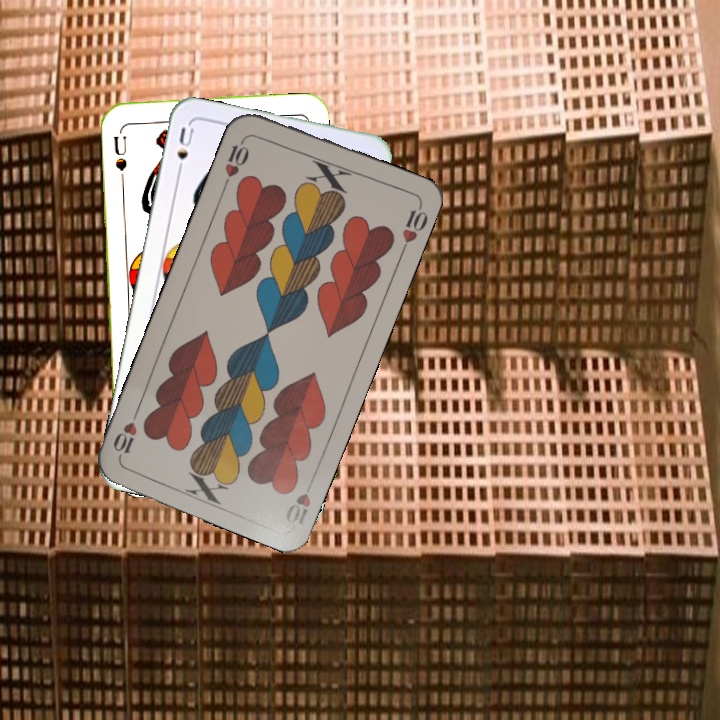H10: (281, 472, 319, 527), (220, 132, 252, 189)
SU: (173, 123, 197, 180), (109, 123, 130, 173)
